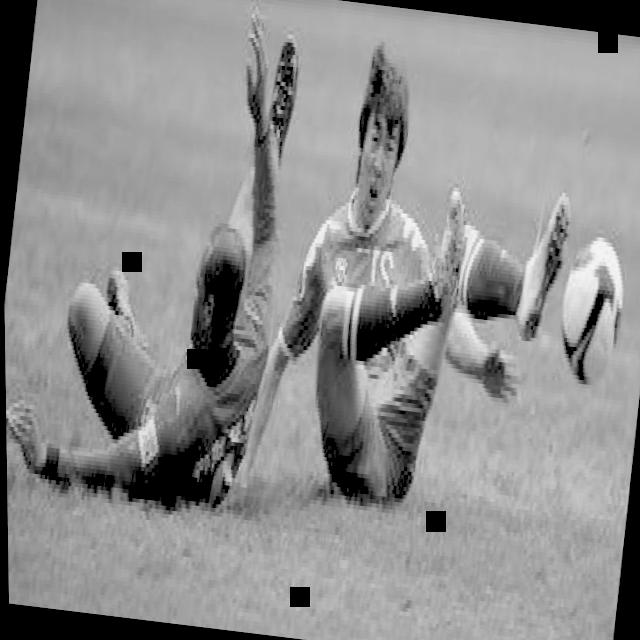Fall-Detected: (0, 0, 336, 534)
